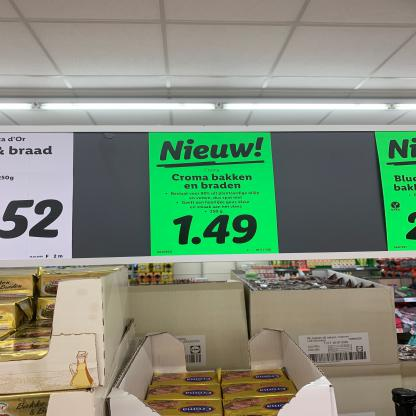prtg: (1, 132, 415, 261), (149, 133, 280, 257)
